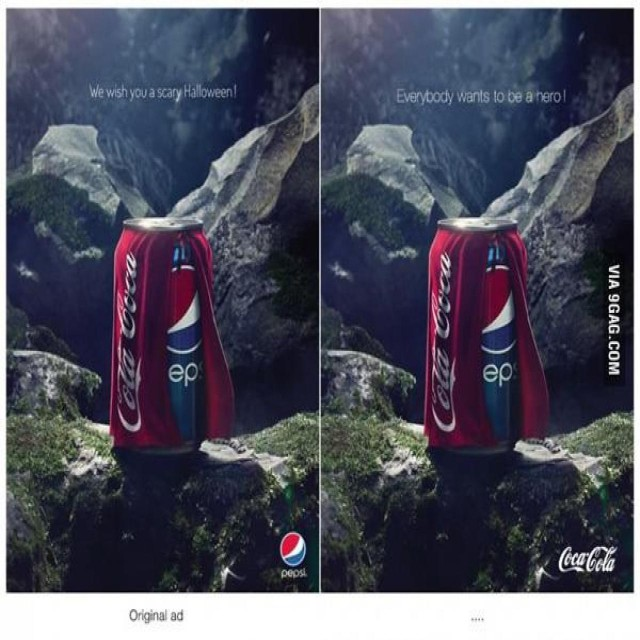pepsi: (155, 260, 209, 362), (474, 257, 529, 356), (277, 532, 307, 572)
